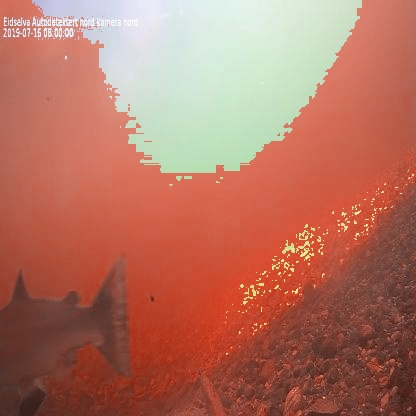salmon: (0, 252, 137, 402)
